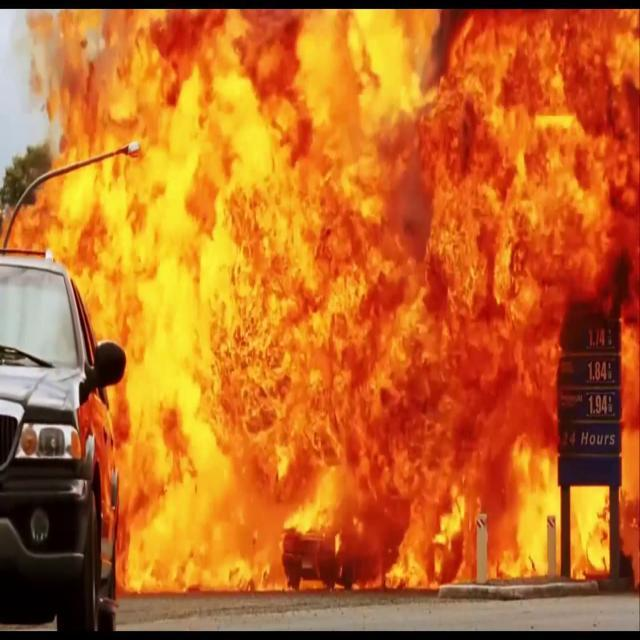fire: (2, 8, 635, 586)
